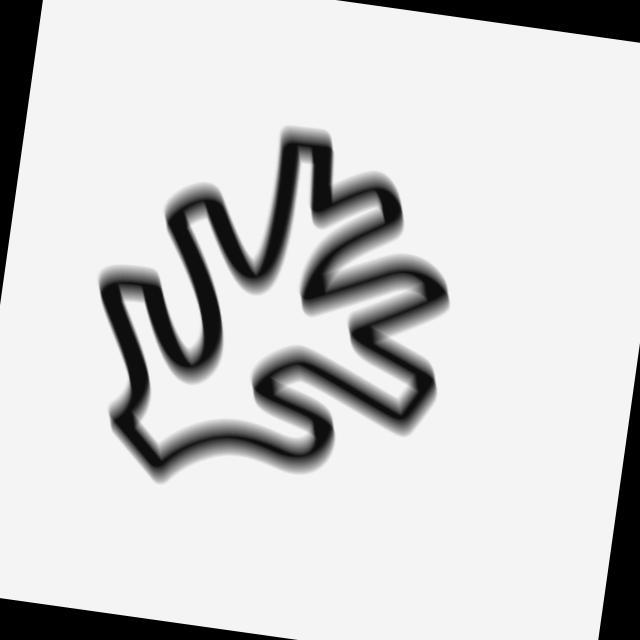coral: (64, 93, 485, 530)
